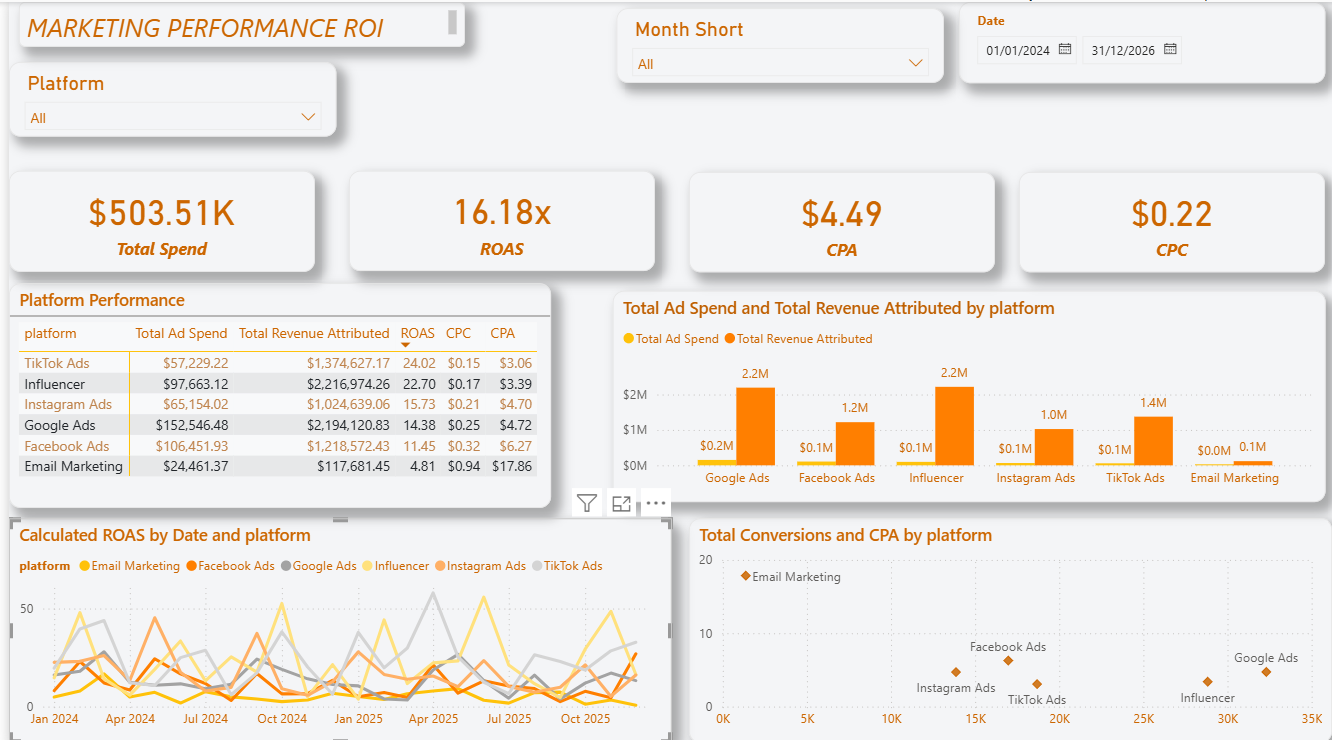

What the dashboard file says about the page in this screenshot:
{"tool":"powerbi","page":{"name":"Marketing Dashboard","canvas":[1280,720],"ordinal":2},"visuals":[{"type":"textbox","box":[9.7,0,430.7,43.4],"z":0},{"type":"slicer","fields":{"Values":["fact_marketing_spend.platform"]},"box":[0,57.9,316.1,72.4],"z":1000},{"type":"slicer","fields":{"Values":["dim_Calendar.Month Short"]},"box":[586.3,6,316.1,72.4],"z":2000},{"type":"slicer","fields":{"Values":["dim_Calendar.Date"]},"box":[916.9,0,353.5,78.4],"z":3000},{"type":"card","fields":{"Values":["Sum(fact_marketing_spend.spend)"]},"box":[0,163.3,295,97.4],"z":4000},{"type":"card","fields":{"Values":["_Measures.Calculated ROAS"]},"box":[328.2,162.9,295.6,96.5],"z":5000},{"type":"card","fields":{"Values":["_Measures.Calculated CPA"]},"box":[656.3,164.1,295.6,96.5],"z":6000},{"type":"card","fields":{"Values":["_Measures.Calculated CPC"]},"box":[974.8,164.1,295.6,96.5],"z":7000},{"type":"pivotTable","title":"Platform Performance","fields":{"Rows":["fact_marketing_spend.platform"],"Values":["_Measures.Total Ad Spend","_Measures.Total Revenue Attributed","_Measures.Calculated ROAS","_Measures.Calculated CPC","_Measures.Calculated CPA"]},"box":[0,271.4,523.6,217.2],"z":8000},{"type":"clusteredColumnChart","fields":{"Category":["fact_marketing_spend.platform"],"Y":["_Measures.Total Ad Spend","_Measures.Total Revenue Attributed"]},"box":[582.7,278.7,687.7,203.9],"z":9000},{"type":"lineChart","fields":{"Y":["_Measures.Calculated ROAS"],"Series":["fact_marketing_spend.platform"],"Category":["dim_Calendar.Date"]},"box":[0,498.3,639.4,217.2],"z":10000},{"type":"scatterChart","fields":{"Category":["fact_marketing_spend.platform"],"X":["_Measures.Total Conversions"],"Y":["_Measures.Calculated CPA"]},"box":[656.3,498.3,621.3,217.2],"z":10001}]}

Visuals, with their boxes in screenshot pixels (x1, y1, x2, y2), scaled from the page's 1280x720 canvas onto the 1332x740 screenshot:
textbox: (10,0,458,45)
slicer - fact_marketing_spend.platform: (0,60,329,134)
slicer - dim_Calendar.Month Short: (610,6,939,81)
slicer - dim_Calendar.Date: (954,0,1322,81)
card - Sum(fact_marketing_spend.spend): (0,168,307,268)
card - _Measures.Calculated ROAS: (342,167,649,267)
card - _Measures.Calculated CPA: (683,169,991,268)
card - _Measures.Calculated CPC: (1014,169,1322,268)
"Platform Performance" pivotTable: (0,279,545,502)
clusteredColumnChart - fact_marketing_spend.platform x _Measures.Total Ad Spend: (606,286,1322,496)
lineChart - _Measures.Calculated ROAS x fact_marketing_spend.platform: (0,512,665,735)
scatterChart - fact_marketing_spend.platform x _Measures.Total Conversions: (683,512,1330,735)
